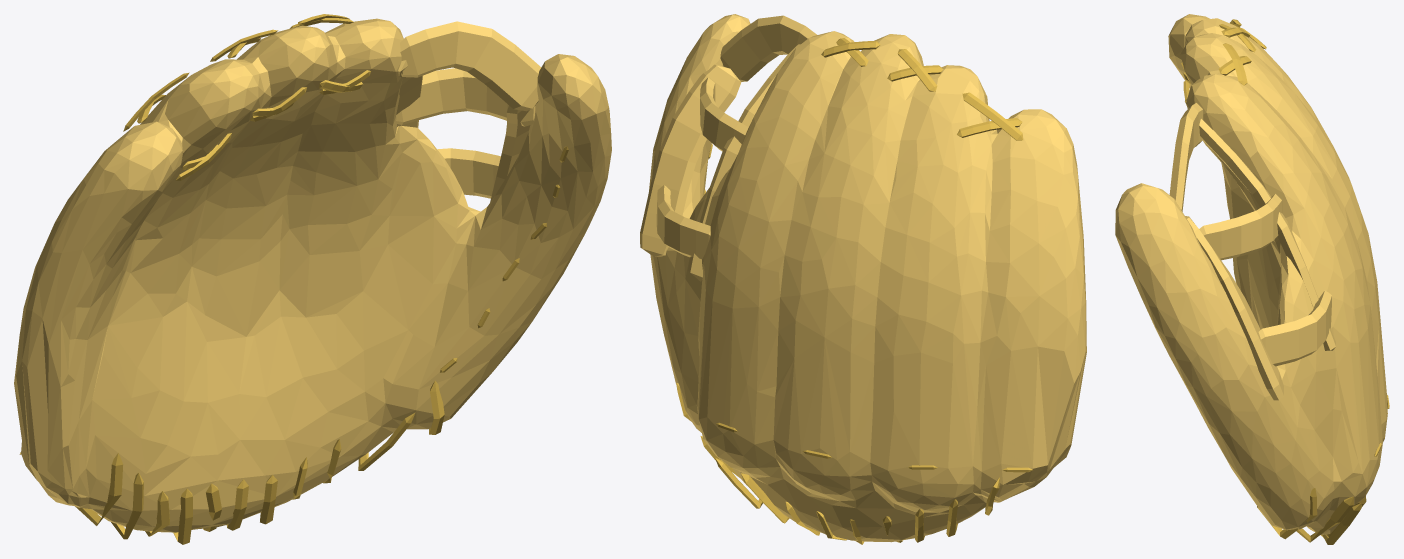
Rendered from guante.glb.
3 renders of one model, left to right at view 1: azimuth 30°, elevation 25°; view 2: azimuth 150°, elevation 25°; view 3: azimuth 270°, elevation 25°, orthographic. The views are drawn at different scales.
Visible parts, largest first — view 1: GuanteLowPoly, RedLowPoly, CordonesLowPoly; view 2: GuanteLowPoly, RedLowPoly, CordonesLowPoly, PespuntesLowPoly; view 3: GuanteLowPoly, RedLowPoly, CordonesLowPoly.
Boxes of the visible parts, <box> form: GuanteLowPoly: <box>14,18,611,532</box>; RedLowPoly: <box>396,21,541,202</box>; CordonesLowPoly: <box>75,14,444,544</box>; GuanteLowPoly: <box>649,14,1086,542</box>; RedLowPoly: <box>640,15,816,281</box>; CordonesLowPoly: <box>676,38,1023,544</box>; PespuntesLowPoly: <box>704,143,1032,472</box>; GuanteLowPoly: <box>1115,14,1387,535</box>; RedLowPoly: <box>1169,103,1335,400</box>; CordonesLowPoly: <box>1181,19,1366,544</box>.
Size of the model in its own units: 26.22 by 25.39 by 13.02.
